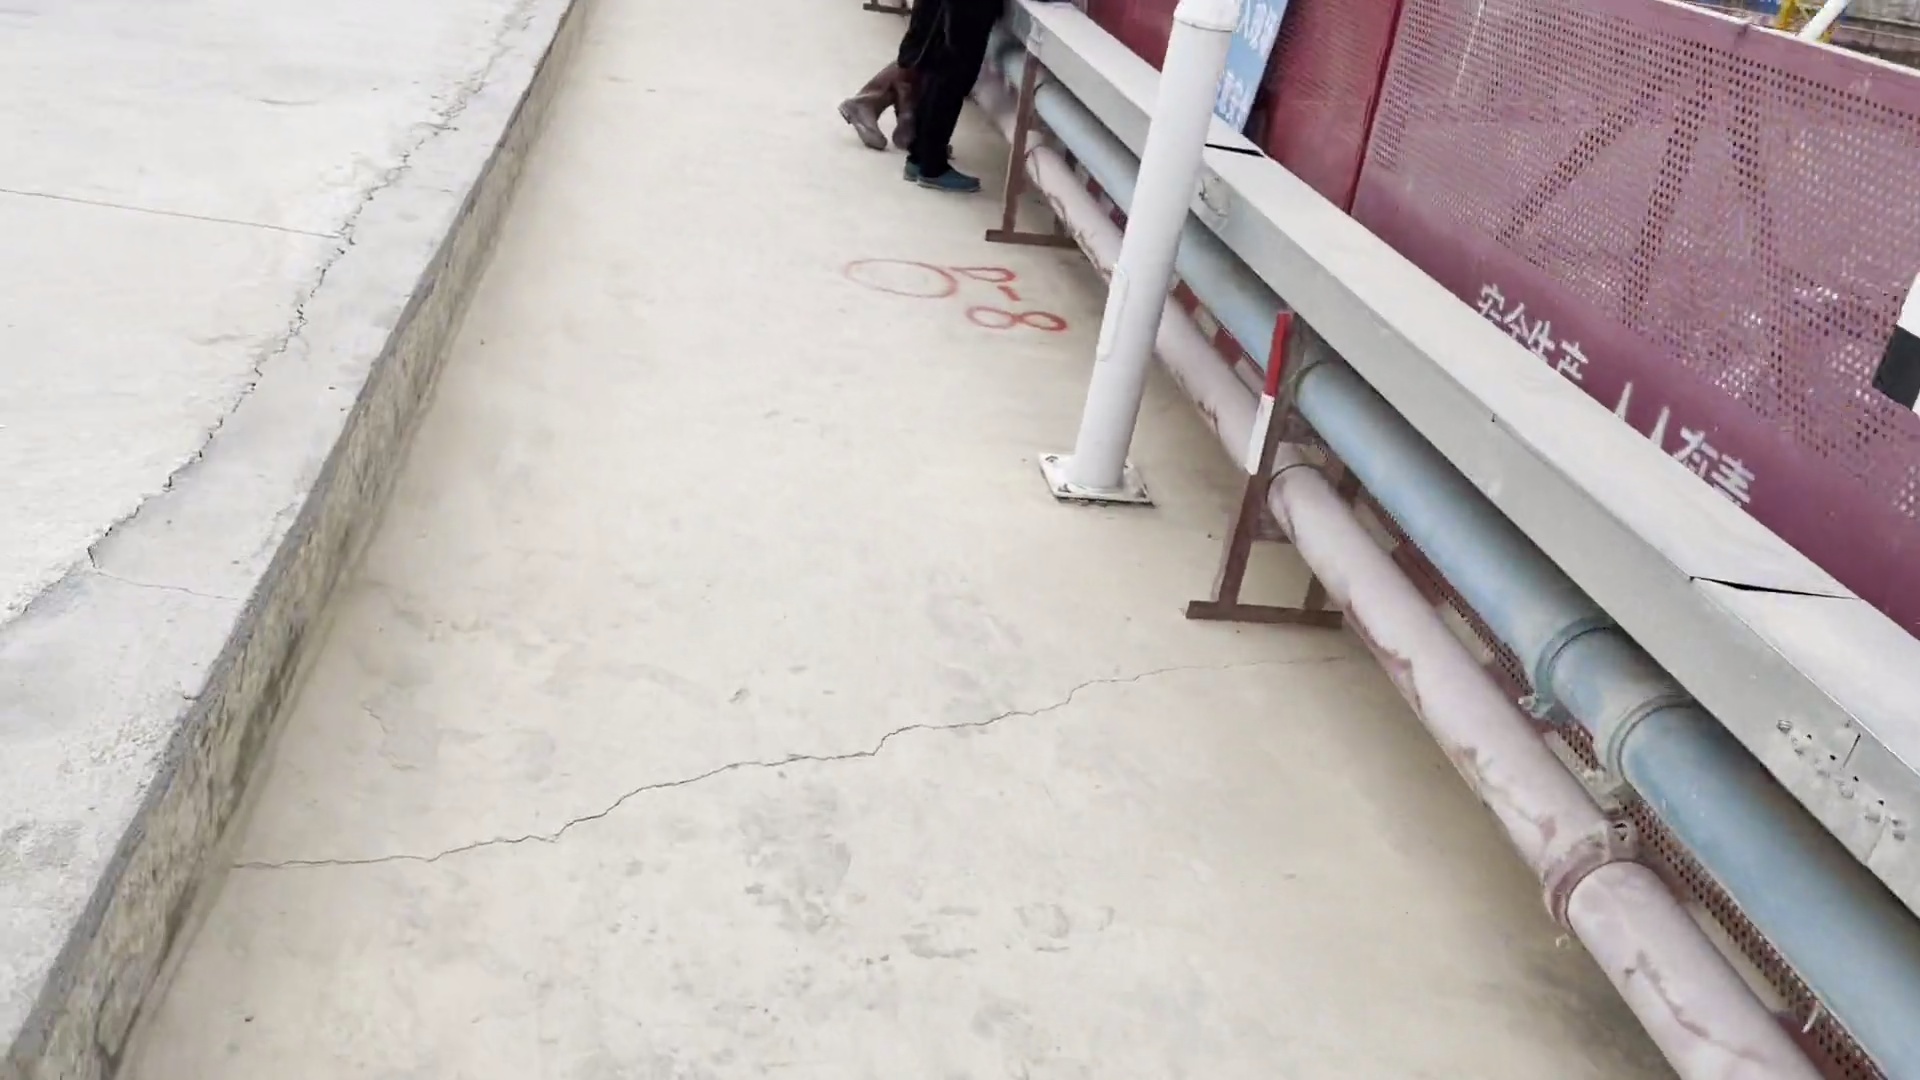fence: (1249, 3, 1920, 669)
slogan: (1185, 1, 1311, 161)
